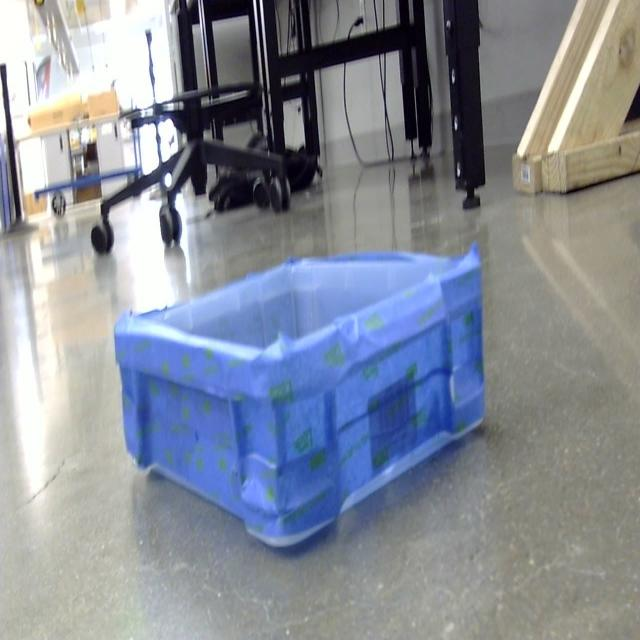bucket: (112, 246, 486, 554)
